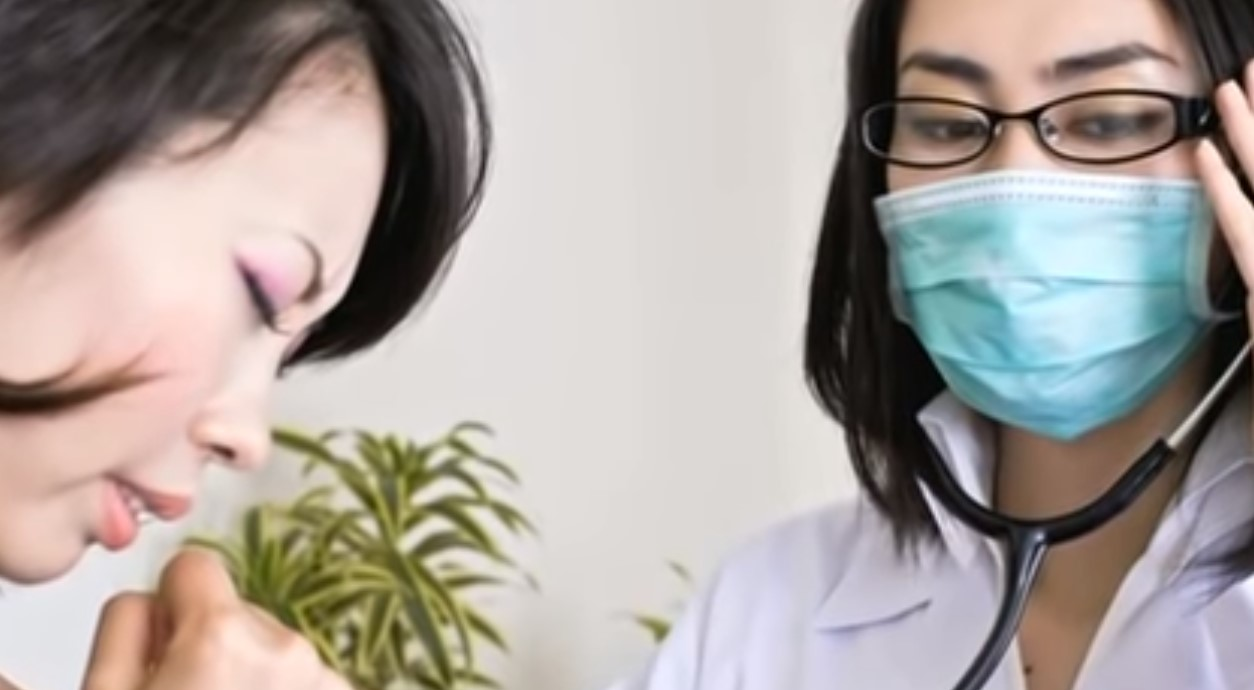face_no_mask: (6, 7, 427, 588)
face_with_mask: (850, 9, 1244, 442)
